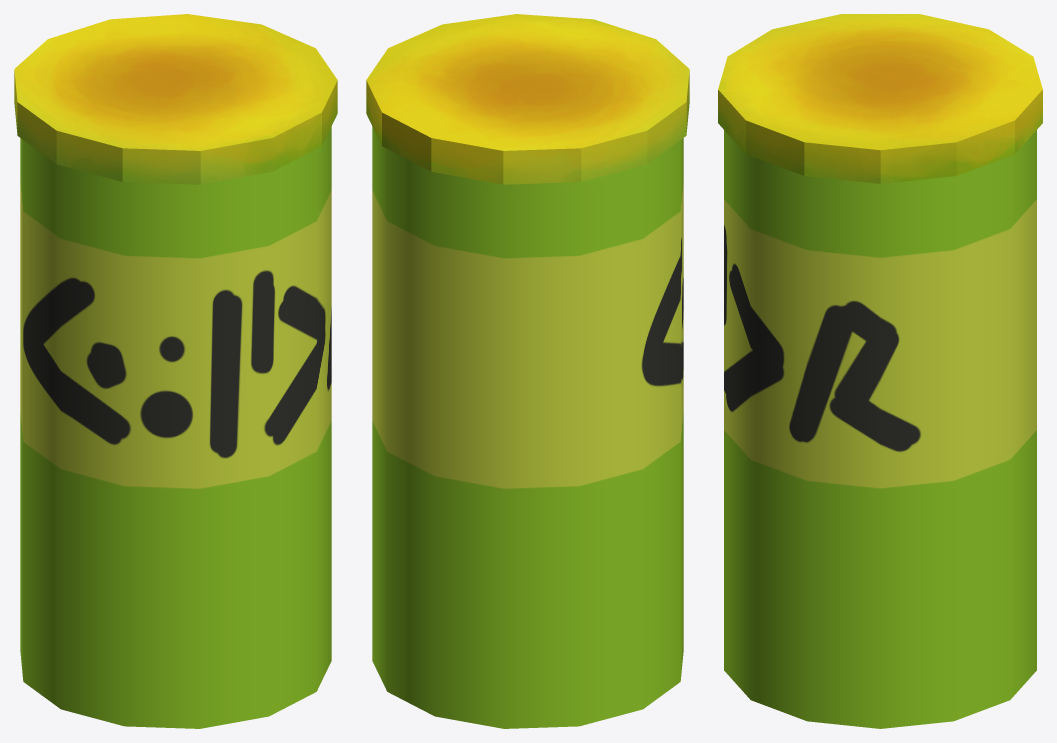
File: Food_Box3.fbx
3 views of the same model, side by side, from view 1: azimuth 30°, elevation 25°; view 2: azimuth 150°, elevation 25°; view 3: azimuth 270°, elevation 25° (orthographic).
Parts seen in each view (by area): view 1: pCylinder14; view 2: pCylinder14; view 3: pCylinder14.
Boxes of the visible parts, x1,y1,x2,y2 form: pCylinder14: [14, 14, 337, 728]; pCylinder14: [366, 14, 689, 728]; pCylinder14: [718, 14, 1042, 728].
Size of the model in its own units: 11.54 by 22.96 by 11.63.
1 material, 1 textured.
